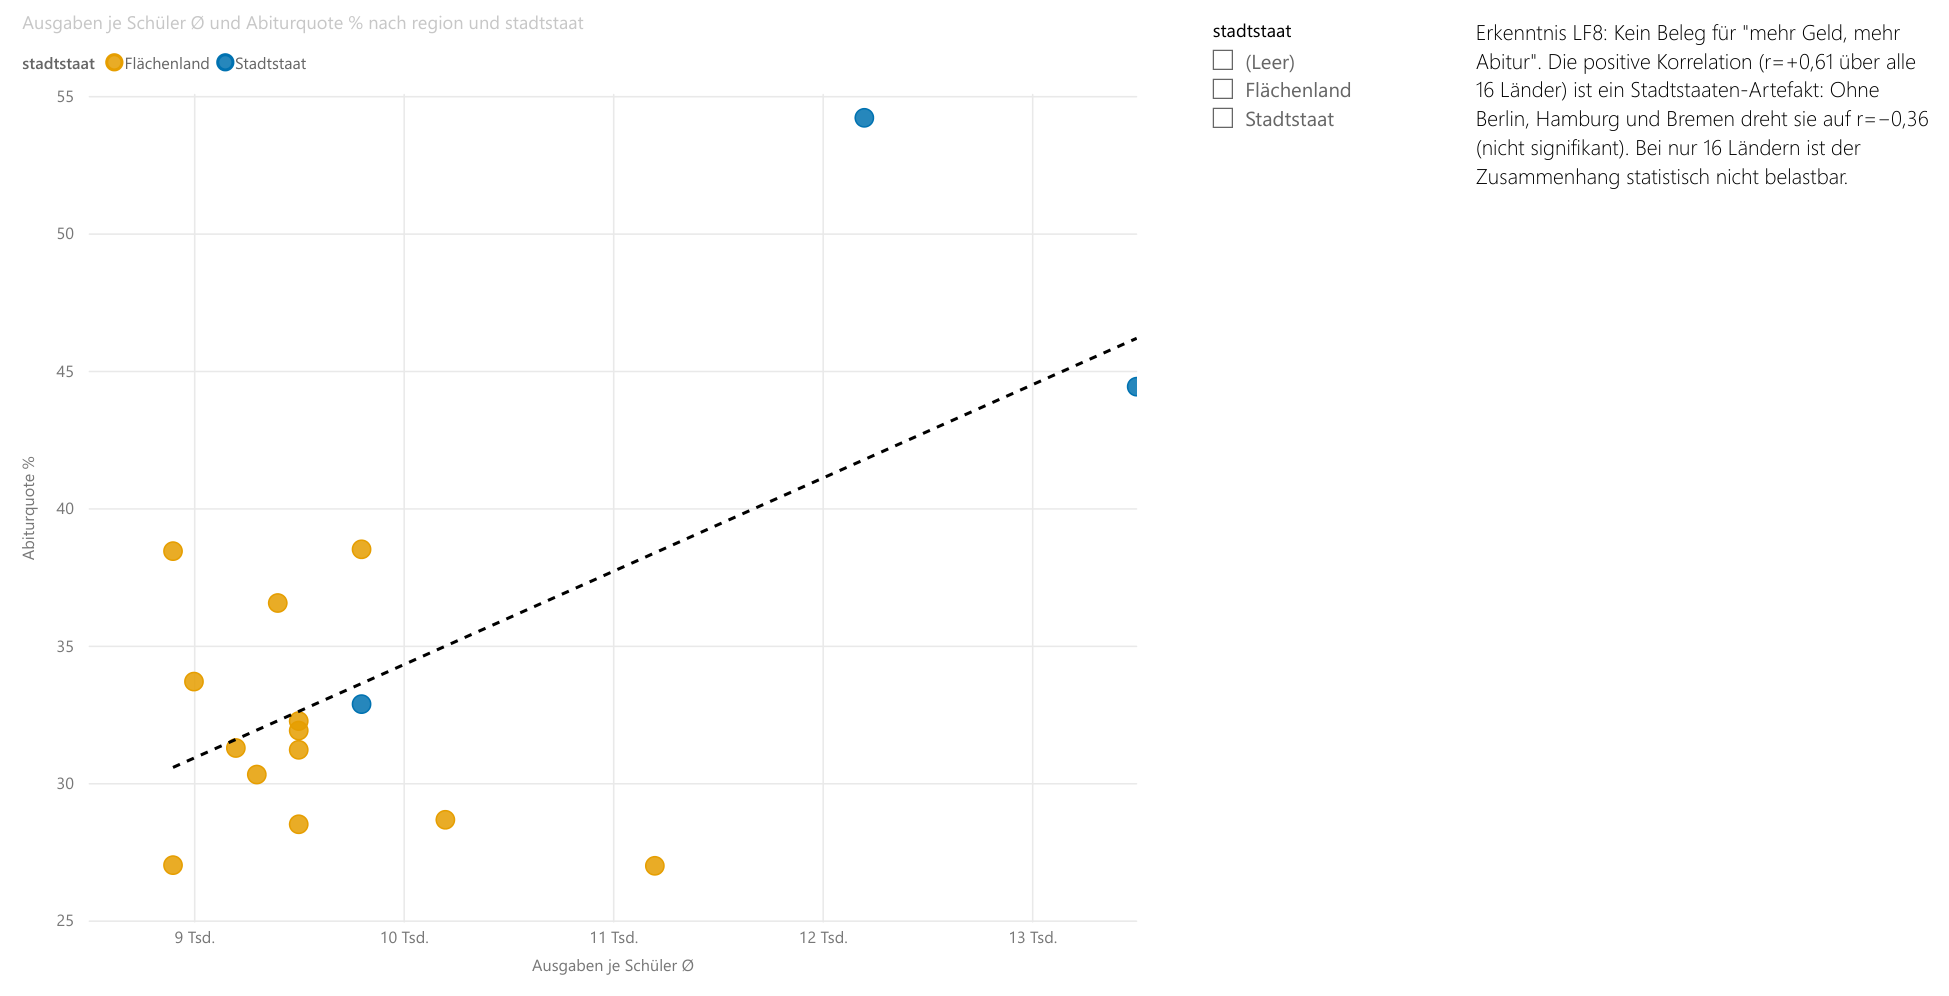

The page's visual inventory and layout, read from the dashboard file:
{"tool":"powerbi","page":{"name":"LF8 Ausgaben×Abitur","canvas":[1280,720],"ordinal":7},"visuals":[{"type":"scatterChart","fields":{"Category":["dim_region.region"],"Series":["dim_region.stadtstaat"],"X":["dim_abschluss.Ausgaben je Schüler Ø"],"Y":["dim_abschluss.Abiturquote %"]},"box":[9.7,20.4,760,640],"z":0},{"type":"textbox","box":[966,20,314,640],"z":1},{"type":"slicer","fields":{"Values":["dim_region.stadtstaat"]},"box":[785,20,175,180],"z":6}]}

Visuals, with their boxes on the page's 1280x720 design canvas (x1, y1, x2, y2). These are canvas units, not pixel positions in the 1949x996 screenshot, which may show the page scaled, cropped or inside an application window:
scatterChart - dim_region.region x dim_region.stadtstaat: left=10, top=20, right=770, bottom=660
textbox: left=966, top=20, right=1280, bottom=660
slicer - dim_region.stadtstaat: left=785, top=20, right=960, bottom=200
